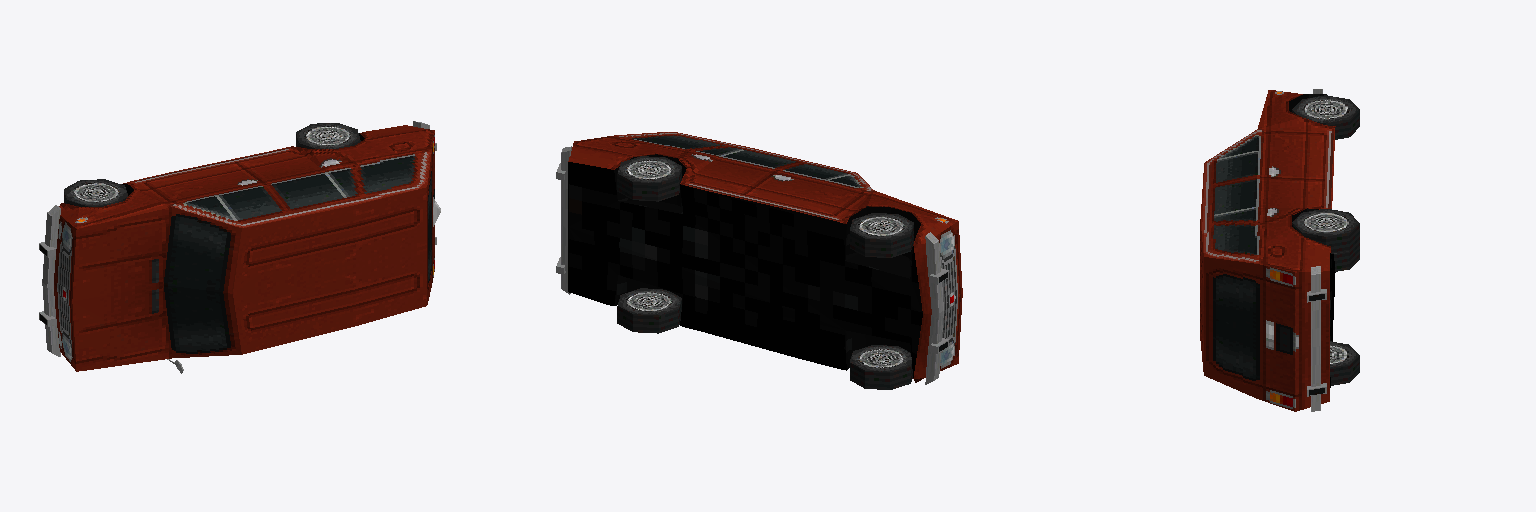
The picture shows the model from 3 angles: view 1: azimuth 30°, elevation 25°; view 2: azimuth 150°, elevation 25°; view 3: azimuth 270°, elevation 25°; orthographic projection.
Visible parts, largest first — view 1: Car; view 2: Car; view 3: Car.
Part boxes in pixels (x1,y1,x2,y2): Car: (39, 121, 440, 373); Car: (556, 132, 962, 389); Car: (1200, 89, 1359, 411).
Size of the model in its own units: 61.5 by 25.58 by 21.74.
Materials: 1 (1 with a texture image).